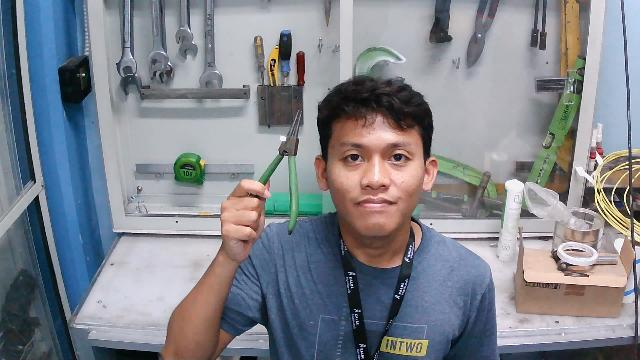tang_cucut_lancip_2: (232, 105, 309, 237)
